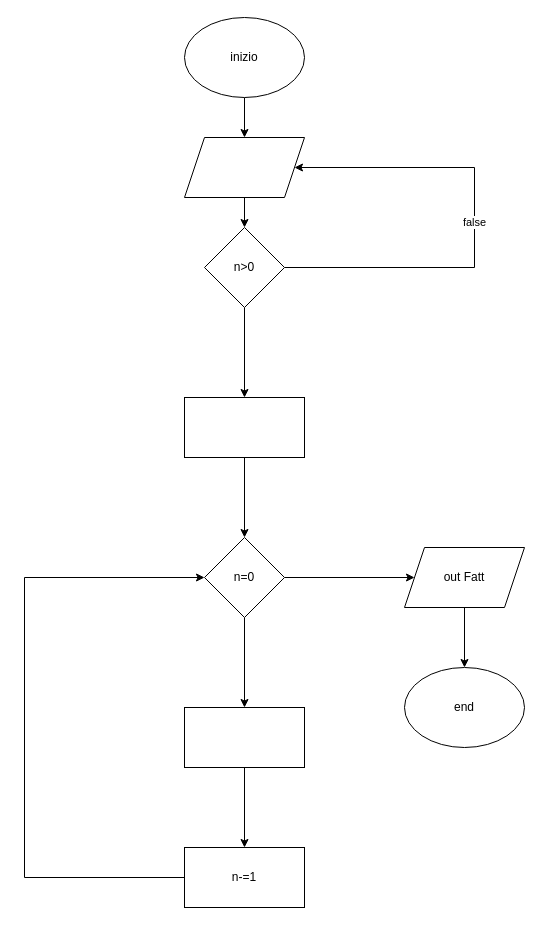
Some shapes in this 542 by 925 pixel diagram are drawn without their labels. Here are the shapes that lost their labels. From the top down, the centre of each, then its label:
the point at 244,167: read N
the point at 244,427: Fatt=1
the point at 244,737: Fatt= Fatt x n
